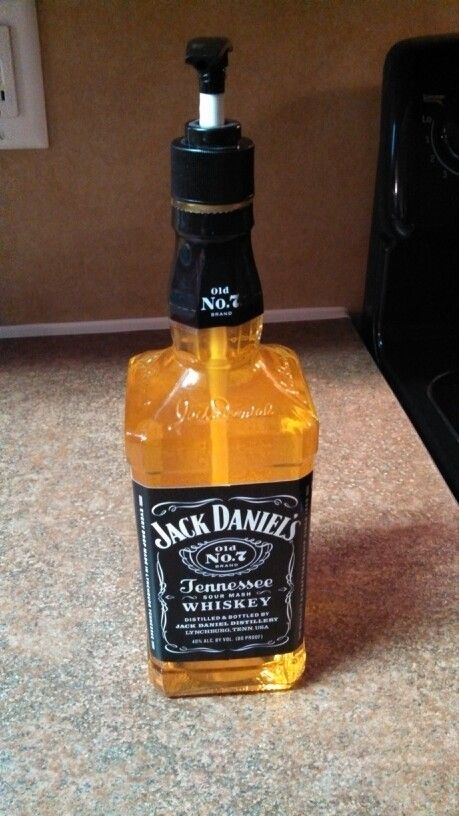Jack Daniel: (110, 24, 339, 717)
